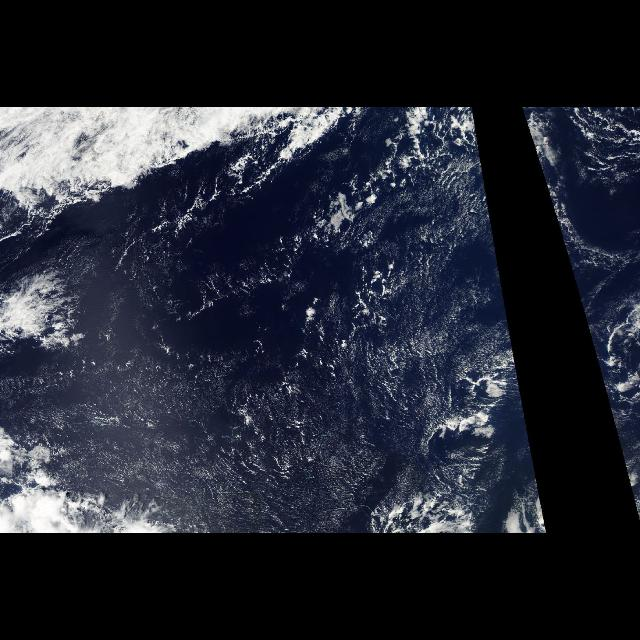Fish: (8, 117, 340, 266)
Sugar: (44, 158, 520, 534)
